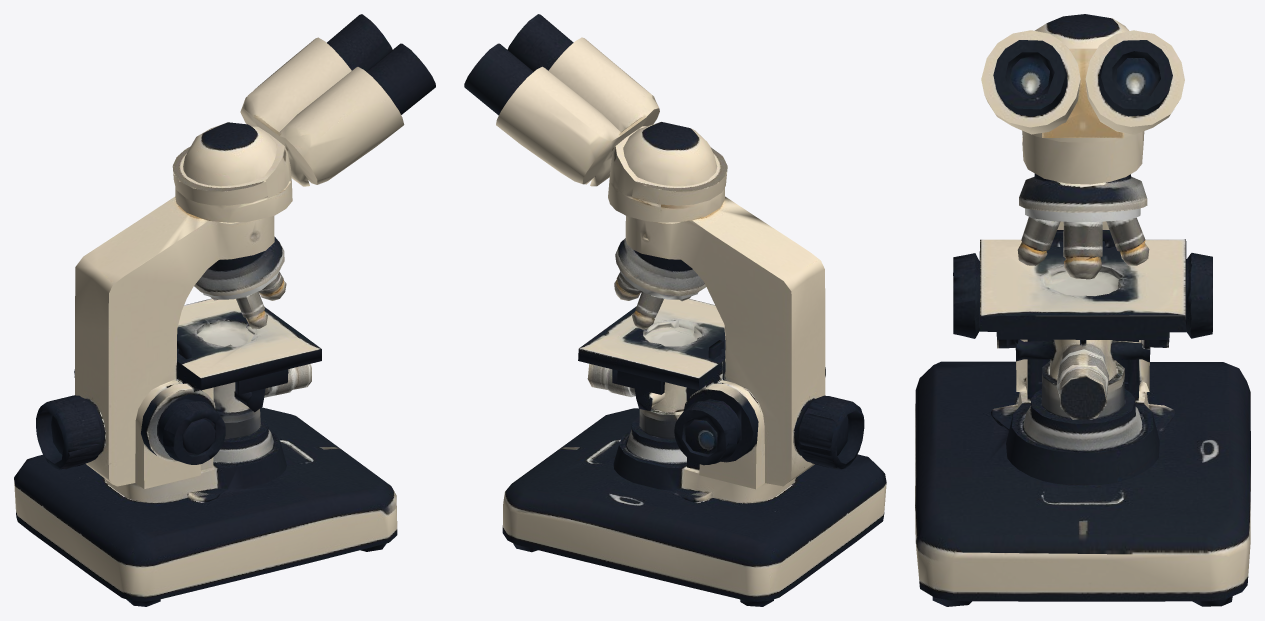
The model's file is microscope_b.glb.
The picture shows the model from 3 angles, left to right: view 1: azimuth 30°, elevation 25°; view 2: azimuth 150°, elevation 25°; view 3: azimuth 270°, elevation 25°; orthographic projection. The views are drawn at different scales.
Visible parts, largest first — view 1: microscope_b; view 2: microscope_b; view 3: microscope_b.
Boxes of the visible parts, box(x1,y1,x2,y2) form: microscope_b: box(14, 14, 435, 606); microscope_b: box(464, 14, 886, 606); microscope_b: box(915, 14, 1250, 606).
Size of the model in its own units: 0.3424 by 0.42 by 0.213.
Materials: 1 (1 with a texture image).
